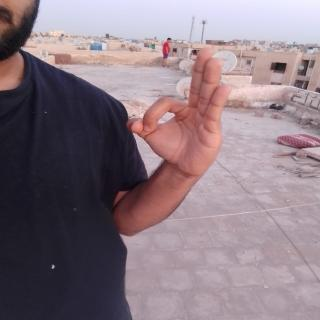Space: (122, 42, 232, 180)
